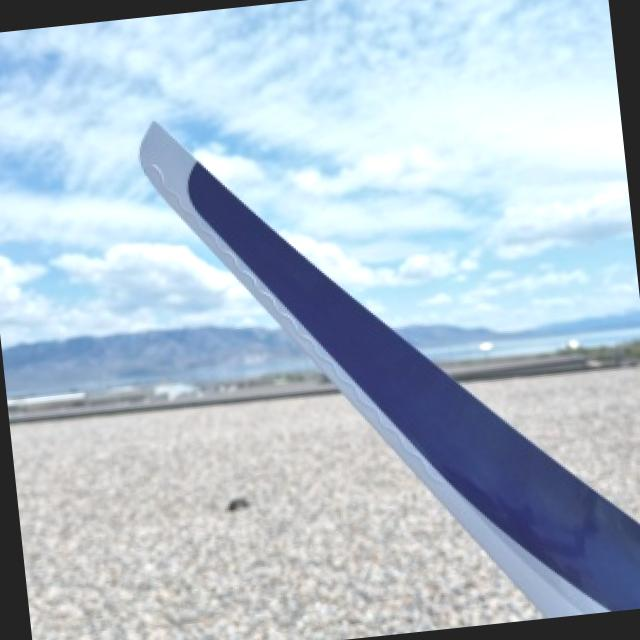healthy: (141, 118, 640, 614)
